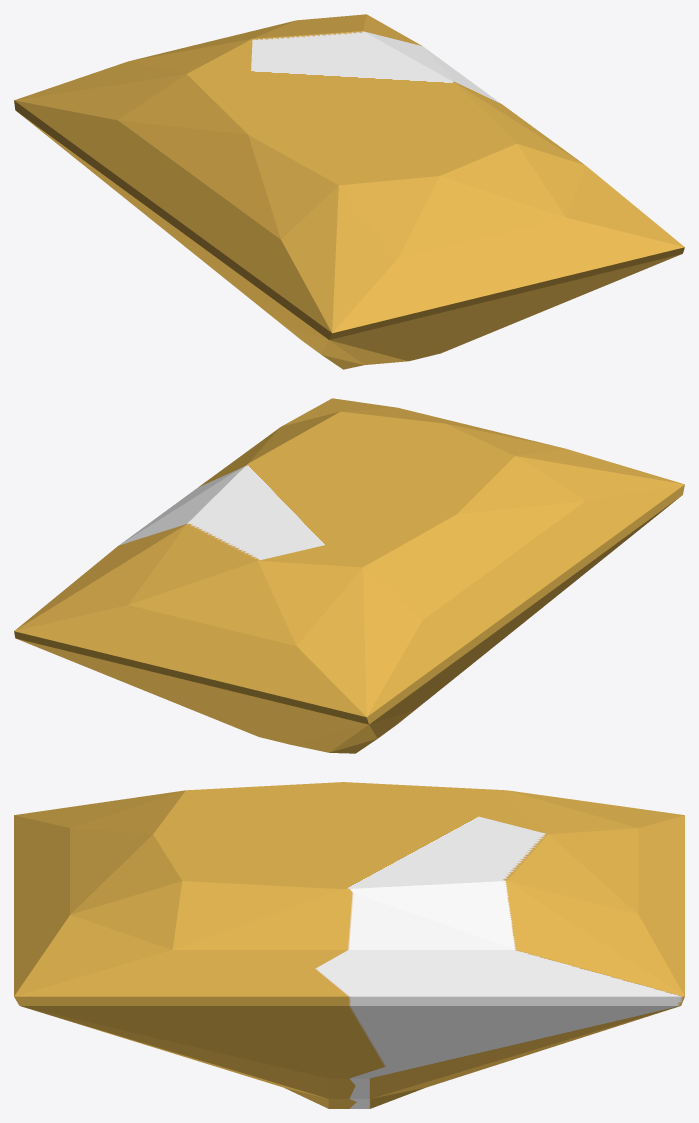
The model's file is november.fbx.
3 renders of one model, top to bottom at view 1: azimuth 30°, elevation 25°; view 2: azimuth 150°, elevation 25°; view 3: azimuth 270°, elevation 25°, orthographic. The views are drawn at different scales.
Visible parts, largest first — view 1: orange_top; view 2: orange_top; view 3: orange_top.
Boxes of the visible parts, box(x1,y1,x2,y2) form: orange_top: box(14, 14, 684, 369); orange_top: box(14, 398, 684, 753); orange_top: box(14, 782, 684, 1108).
Size of the model in its own units: 822 by 558 by 1280.
1 material, 1 textured.
